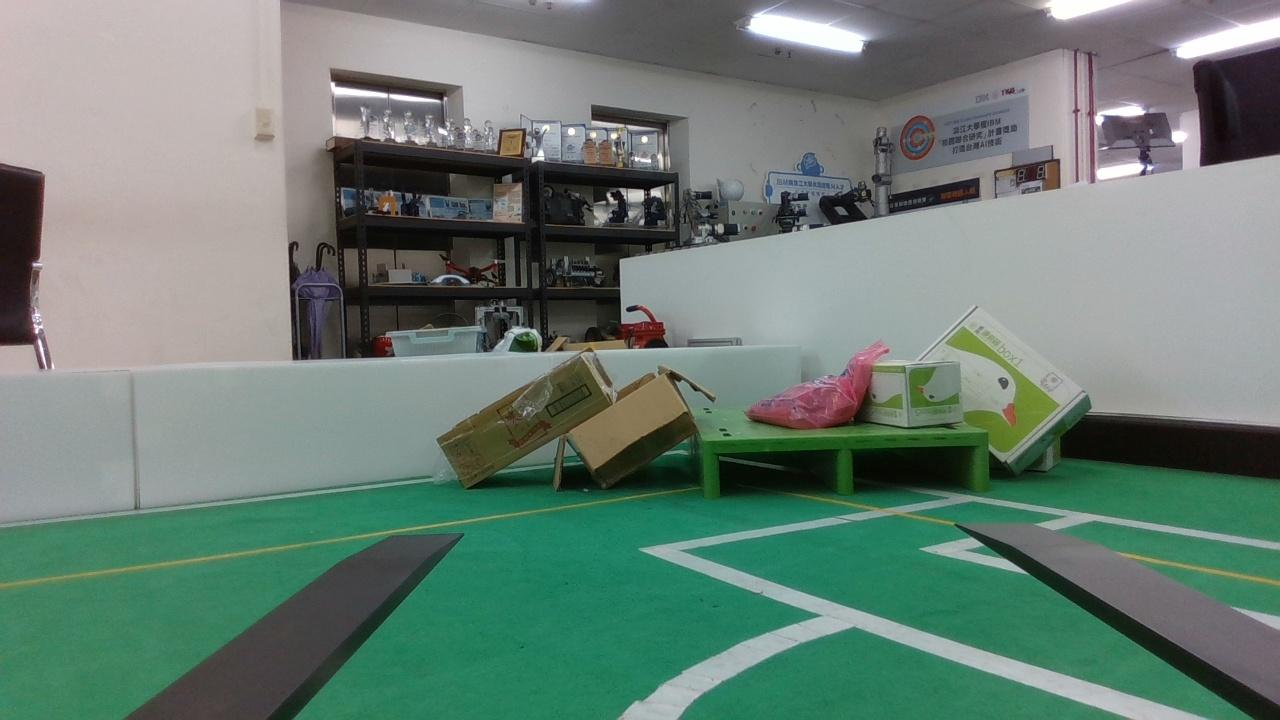Pallet: (702, 431, 992, 498)
